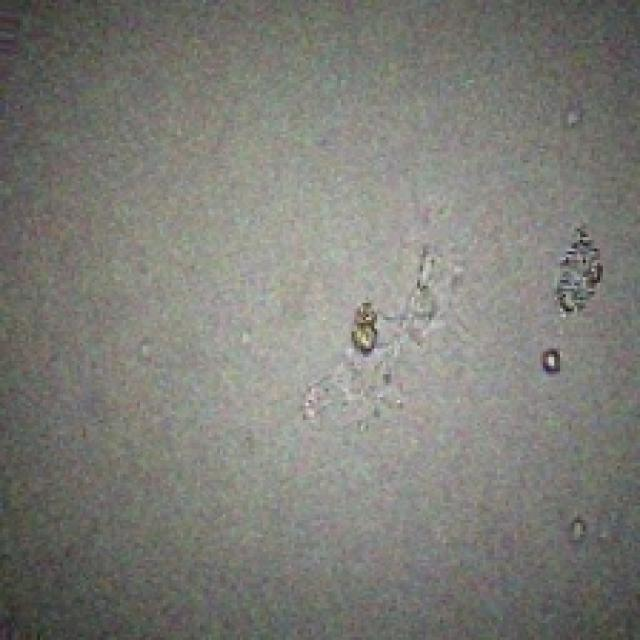Amoeba: (283, 146, 640, 548)
